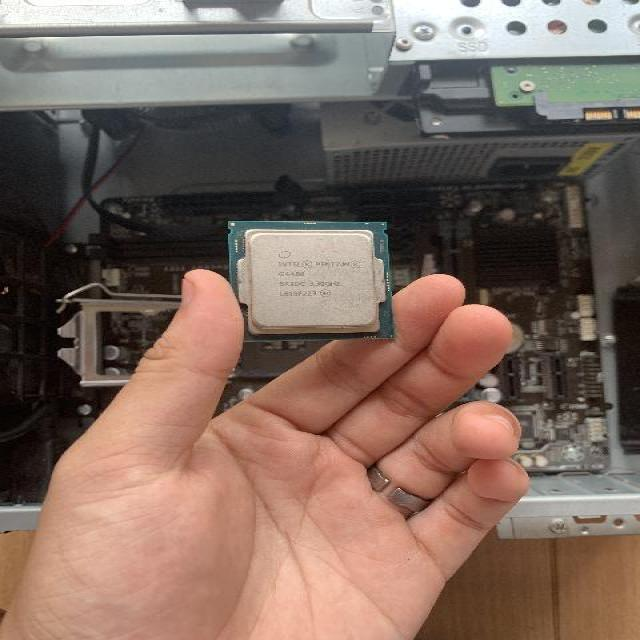CPU: (225, 218, 398, 343)
